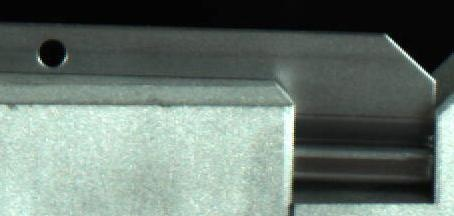cut: (314, 24, 437, 199)
holes: (32, 35, 71, 72)
